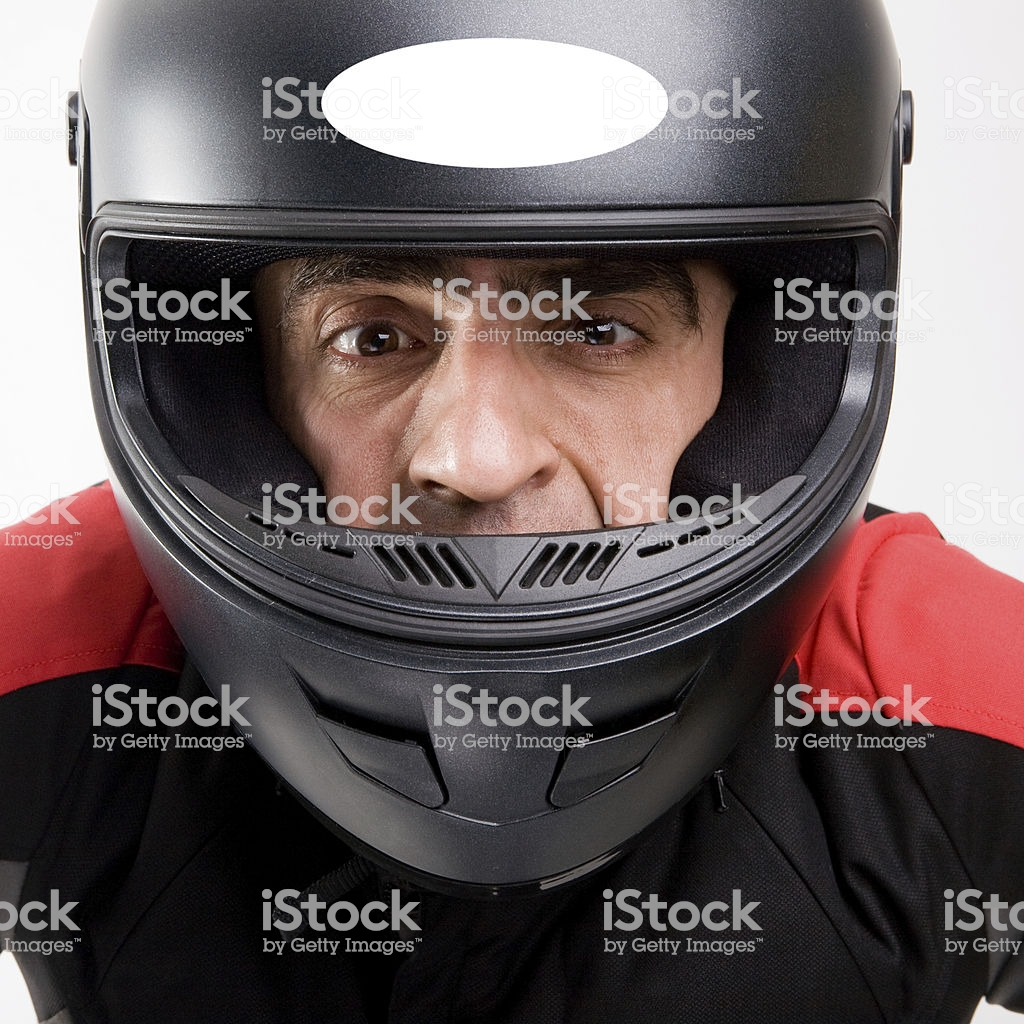helmet: (70, 21, 840, 814)
